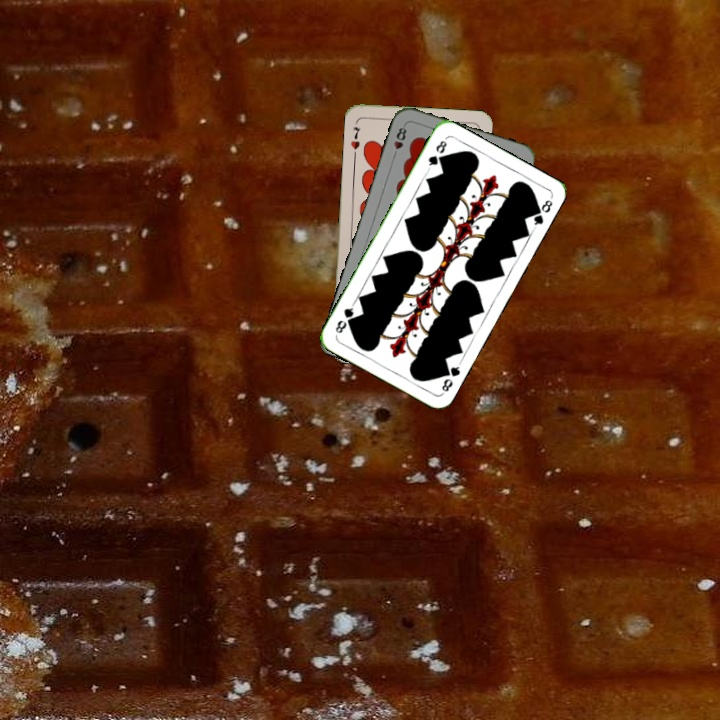G8: (438, 359, 464, 396), (424, 136, 449, 172)
H7: (347, 123, 363, 152)
H8: (389, 121, 409, 160)
